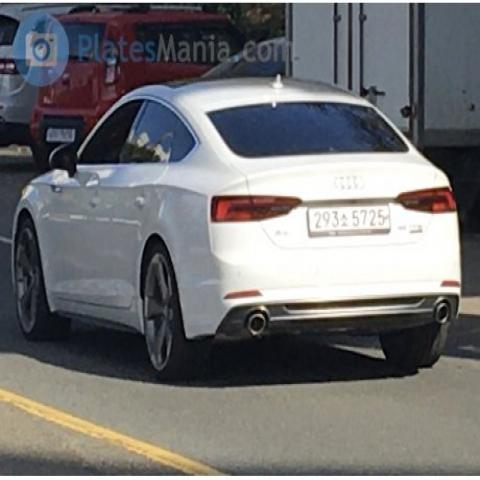LP: (303, 198, 397, 241)
